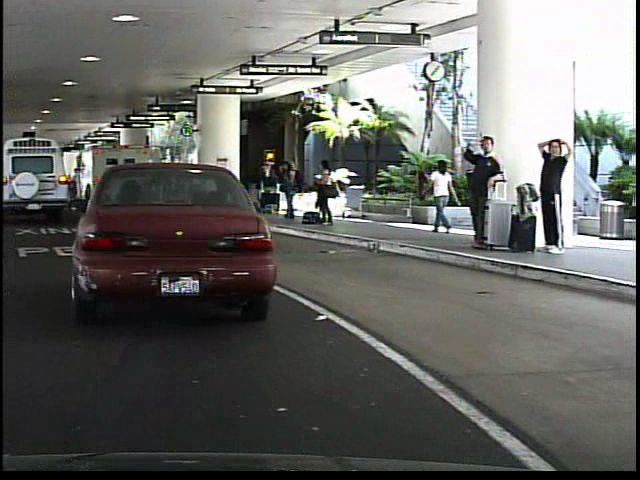person: (458, 131, 503, 250), (535, 127, 573, 254), (421, 154, 458, 235), (312, 157, 338, 226)
